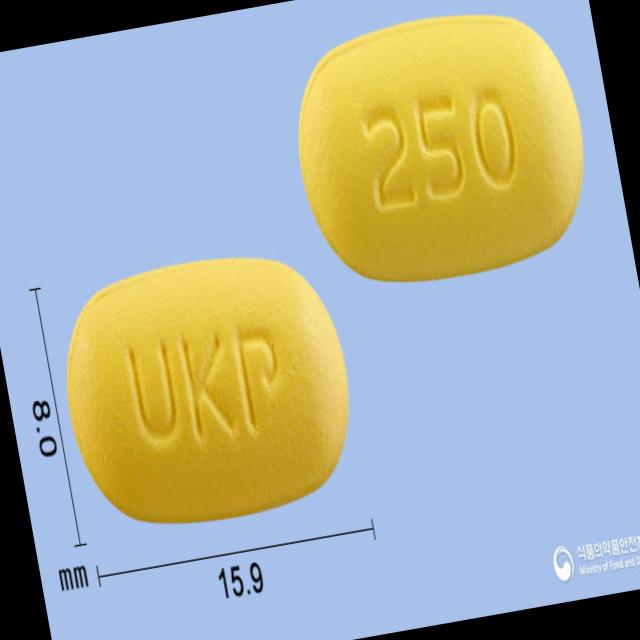Clazin - 500mg: (46, 232, 368, 542), (276, 0, 604, 299)
